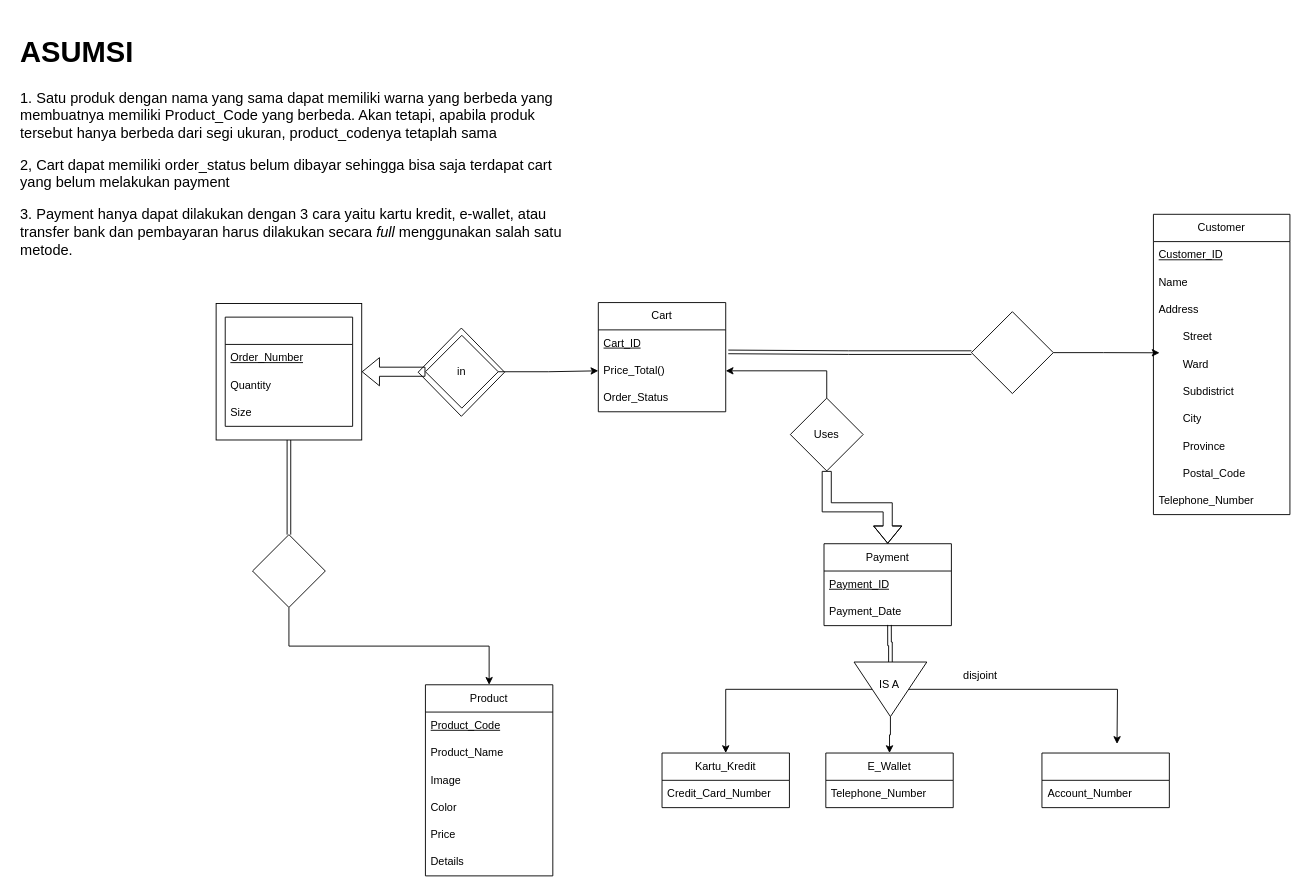
Some shapes in this 1306 by 892 pixel diagram are drawn without their labels. Each missing label, with the box of its shape:
Cart_Product: (224, 316, 353, 426)
FIlled by: (971, 311, 1053, 394)
is: (252, 534, 325, 607)
Transfer_Bank: (1041, 752, 1169, 808)
